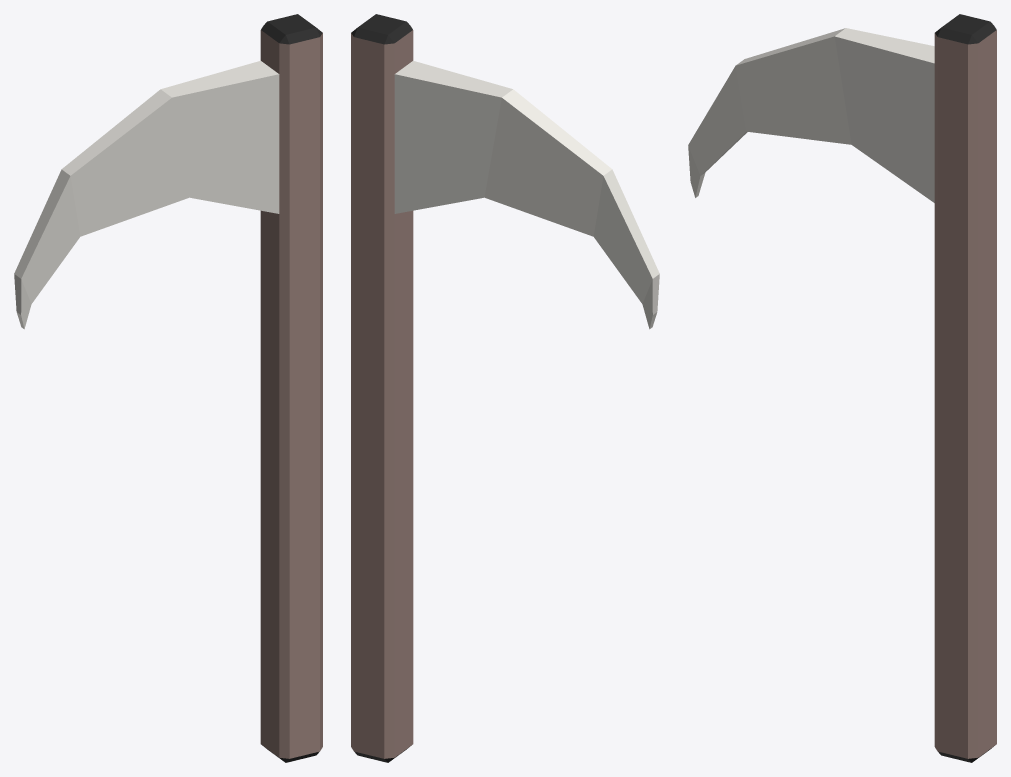
Rendered from Lie.fbx.
3 views of the same model, side by side, from view 1: azimuth 30°, elevation 25°; view 2: azimuth 150°, elevation 25°; view 3: azimuth 330°, elevation 25° (orthographic).
Parts seen in each view (by area): view 1: pCube4; view 2: pCube4; view 3: pCube4.
Part boxes in pixels (<box>): pCube4: <box>14,14,322,762</box>; pCube4: <box>351,14,659,762</box>; pCube4: <box>688,14,996,762</box>.
Bounding box in the file's own units: 1.12 × 2.62 × 0.1696.
